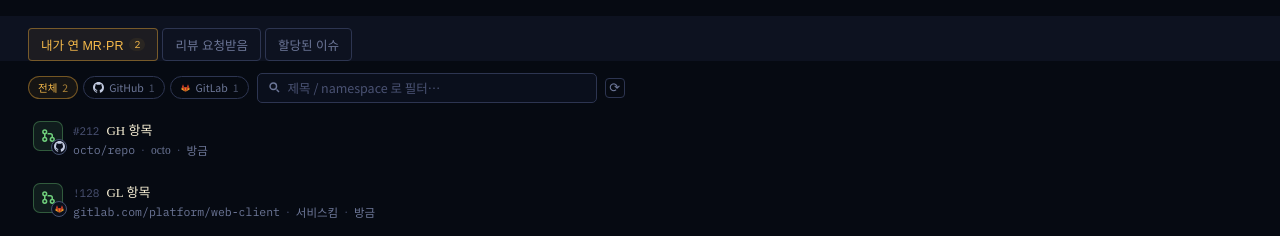
Test: GithubInbox — GitLab 통합 (GL9) › 프로바이더 필터(GitLab)로 GitHub 항목을 숨김
Expected: the text "GH 항목" is shown, [106,120,152,138]
Click the button "GitLab 1".
click(209, 88)  # box [170,76,249,99]
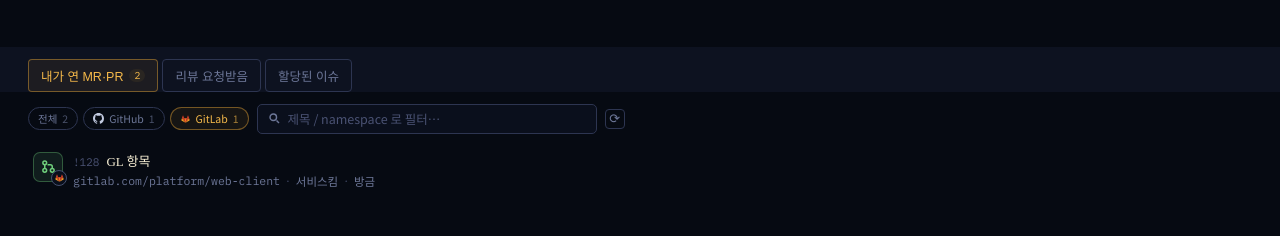
Expected: the text "GL 항목" is shown, [106,150,150,170]
Result: the text "GH 항목" is gone
